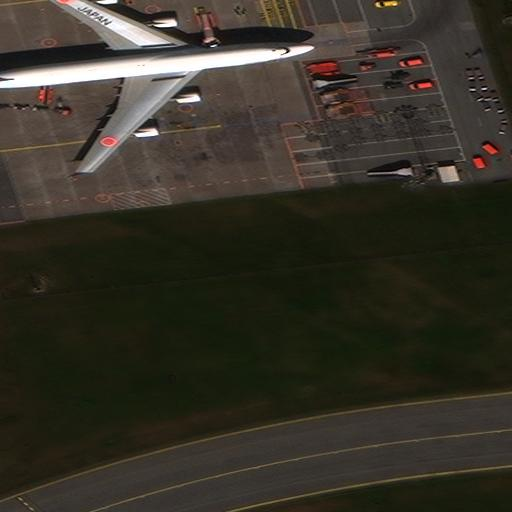Large Civil Transport: (0, 0, 314, 173)
